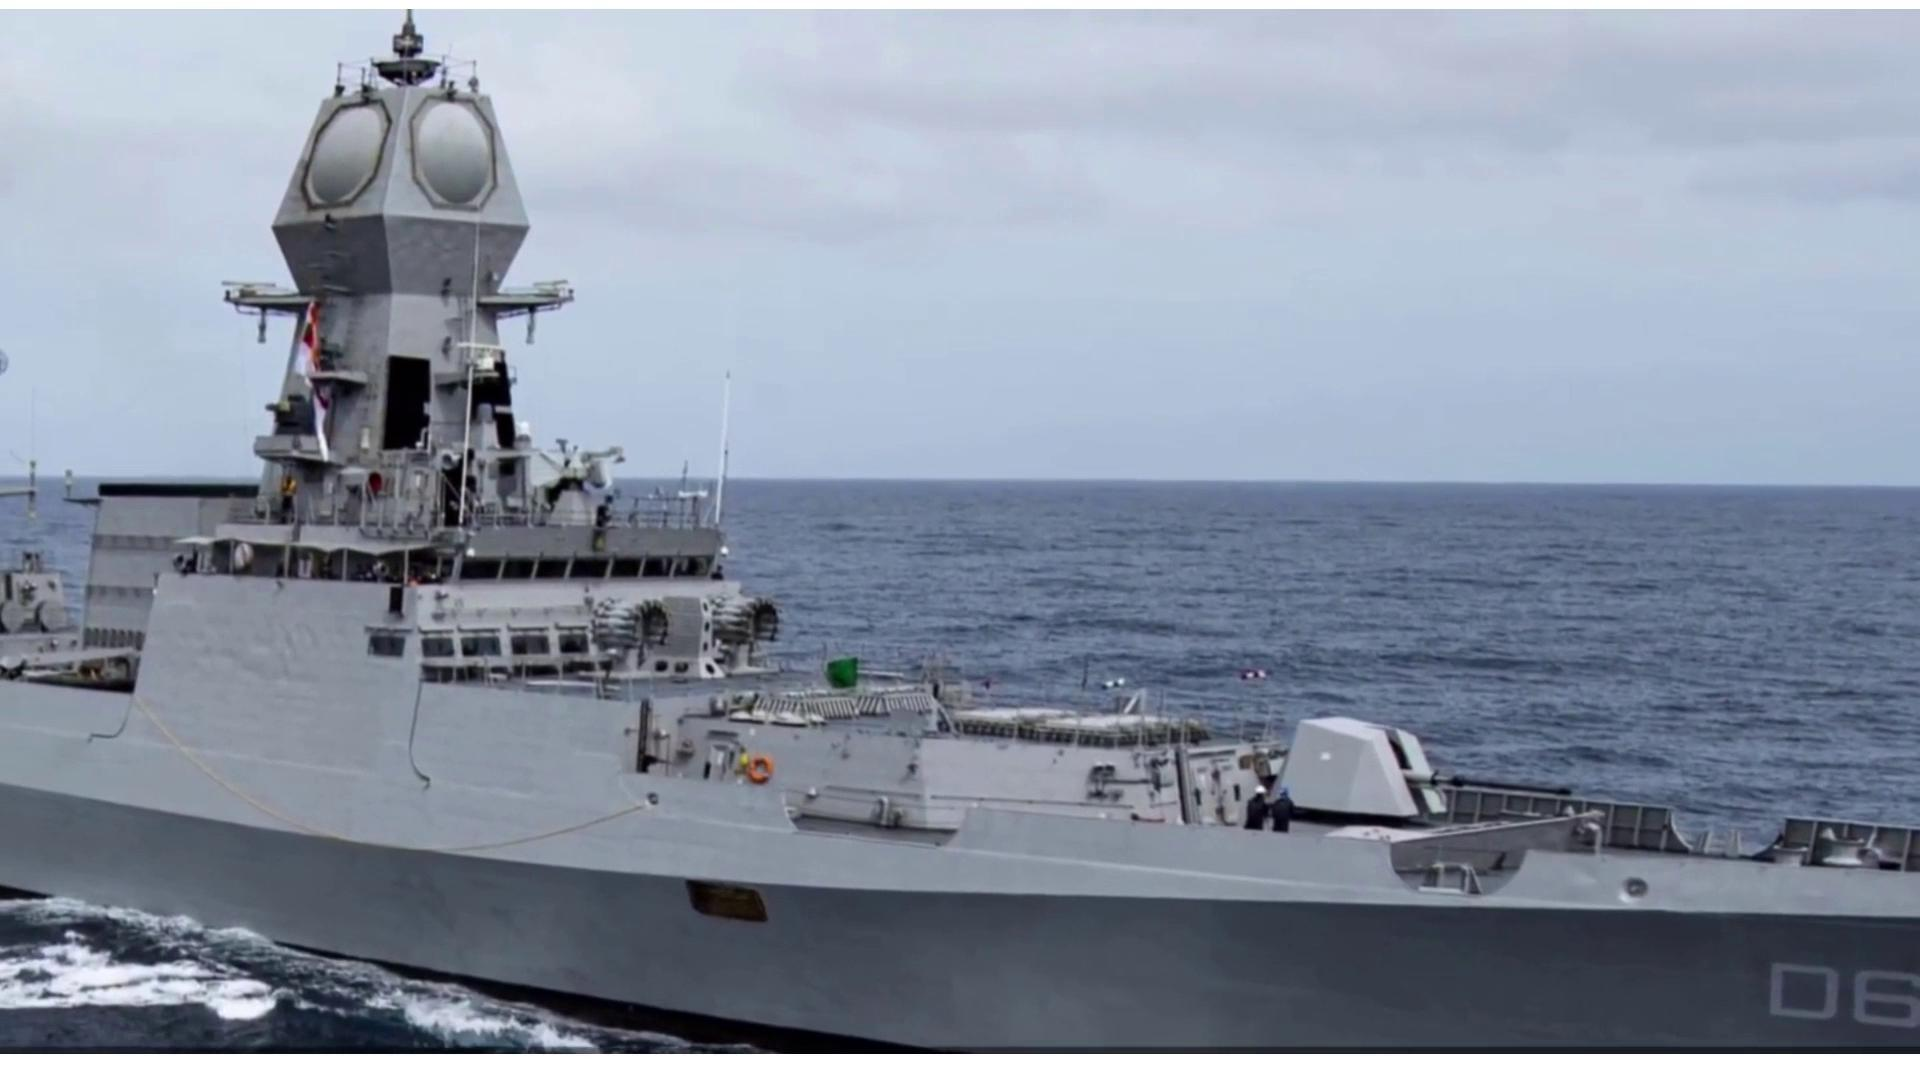OCR: (1764, 957, 1920, 1039)
